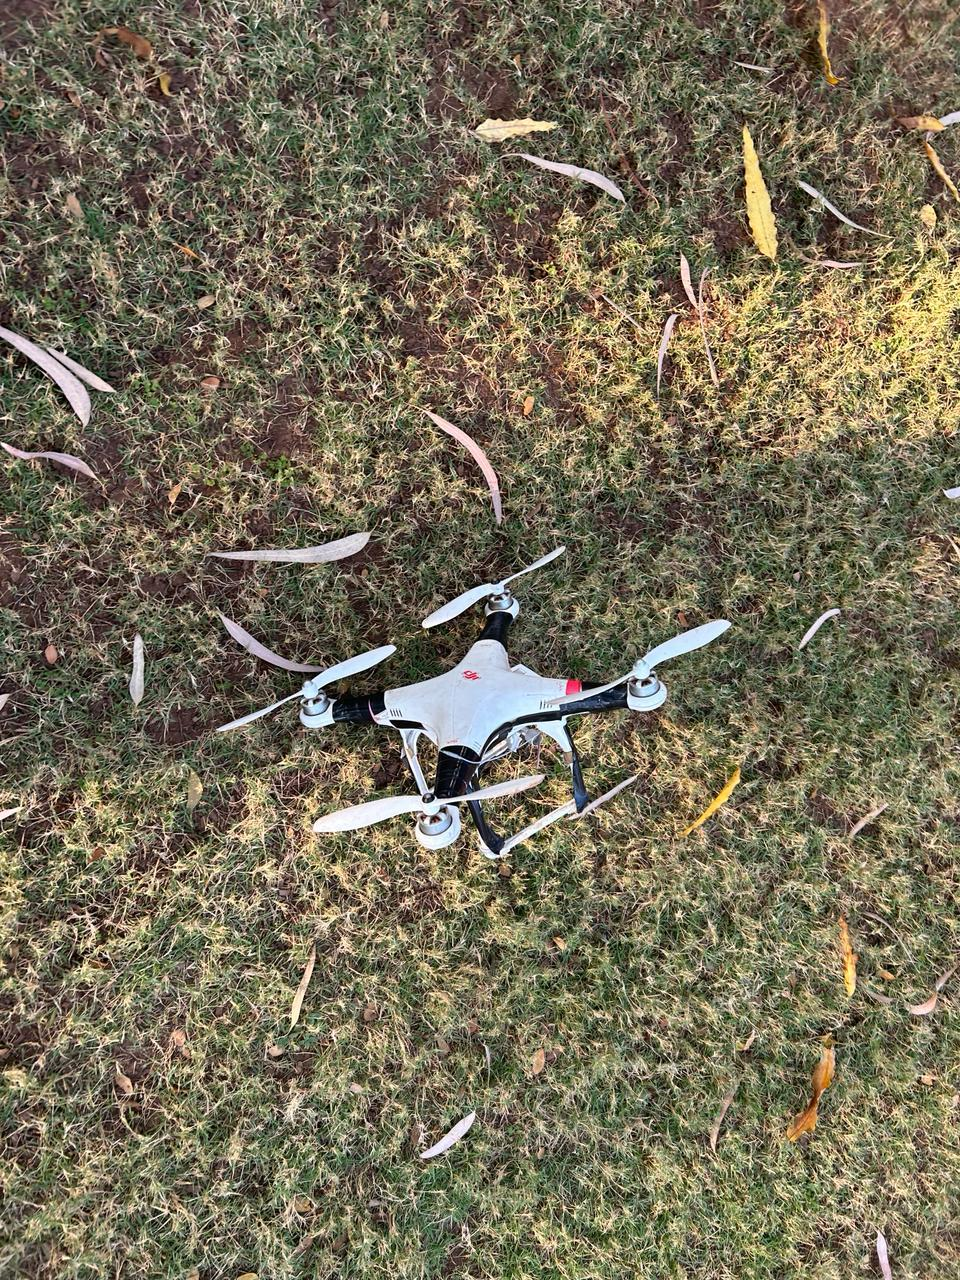drone: (101, 414, 850, 927)
